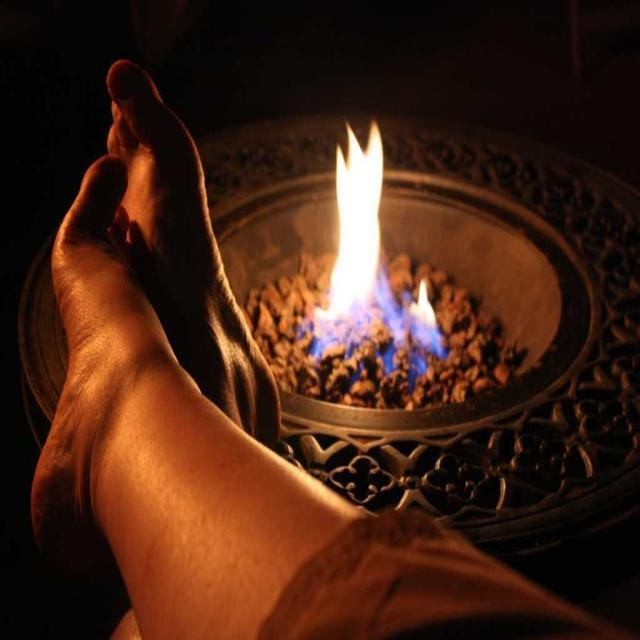Fire: (341, 167, 386, 303)
